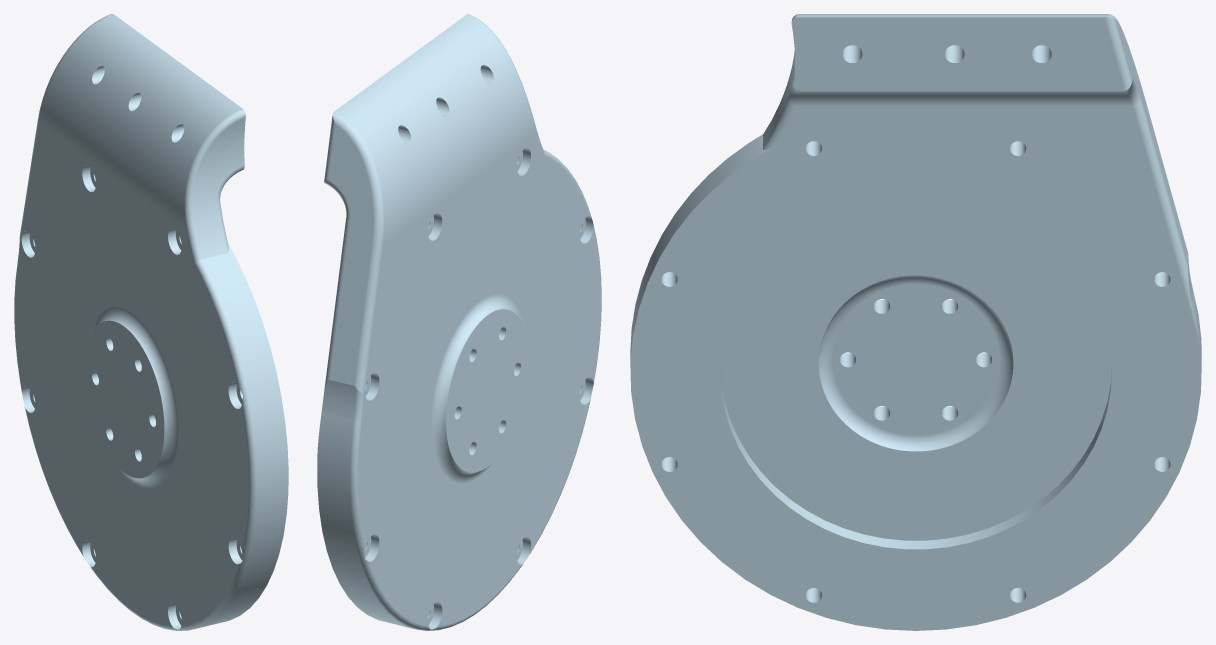
The picture shows the model from 3 angles, left to right: view 1: azimuth 30°, elevation 25°; view 2: azimuth 150°, elevation 25°; view 3: azimuth 270°, elevation 25°; orthographic projection. The views are drawn at different scales.
Visible parts, largest first — view 1: mesh4040, mesh4036, mesh4027, mesh4056, mesh4006, mesh4023, mesh4041, mesh4020, mesh4031; view 2: mesh4040, mesh4036, mesh4056, mesh4032, mesh4027, mesh4041, mesh4031, mesh4006, mesh4029, mesh4028; view 3: mesh4051, mesh4053, mesh4035, mesh4055, mesh4054, mesh4026, mesh4052, mesh4027, mesh4028, mesh4036, mesh4032, mesh4033.
Boxes of the visible parts, <box> form: mesh4040: <box>15,123,248,626</box>; mesh4036: <box>39,14,242,230</box>; mesh4027: <box>199,244,288,627</box>; mesh4056: <box>83,320,164,478</box>; mesh4006: <box>14,260,256,630</box>; mesh4023: <box>192,123,245,259</box>; mesh4041: <box>86,306,178,489</box>; mesh4020: <box>184,121,227,230</box>; mesh4031: <box>19,14,112,240</box>; mesh4040: <box>358,133,600,625</box>; mesh4036: <box>333,14,536,244</box>; mesh4056: <box>446,309,529,472</box>; mesh4032: <box>329,125,373,385</box>; mesh4027: <box>317,414,413,628</box>; mesh4041: <box>431,294,526,483</box>; mesh4031: <box>332,112,384,395</box>; mesh4006: <box>350,150,601,630</box>; mesh4029: <box>321,380,355,421</box>; mesh4028: <box>323,218,349,394</box>; mesh4051: <box>630,106,1201,630</box>; mesh4053: <box>720,194,1111,540</box>; mesh4035: <box>791,17,1124,91</box>; mesh4055: <box>832,284,999,435</box>; mesh4054: <box>818,275,1013,451</box>; mesh4026: <box>795,91,1132,105</box>; mesh4052: <box>720,369,1111,549</box>; mesh4027: <box>630,135,1201,362</box>; mesh4028: <box>1133,100,1200,348</box>; mesh4036: <box>798,14,1106,17</box>; mesh4032: <box>1116,21,1188,266</box>; mesh4033: <box>1104,17,1131,90</box>.
Bounding box in the file's own units: 0.0176 × 0.1273 × 0.105.
